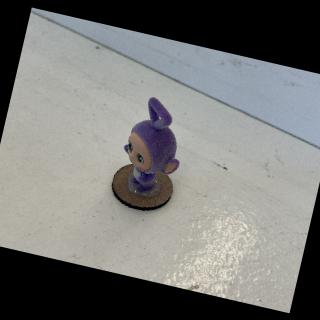teletubby: (123, 97, 179, 191)
